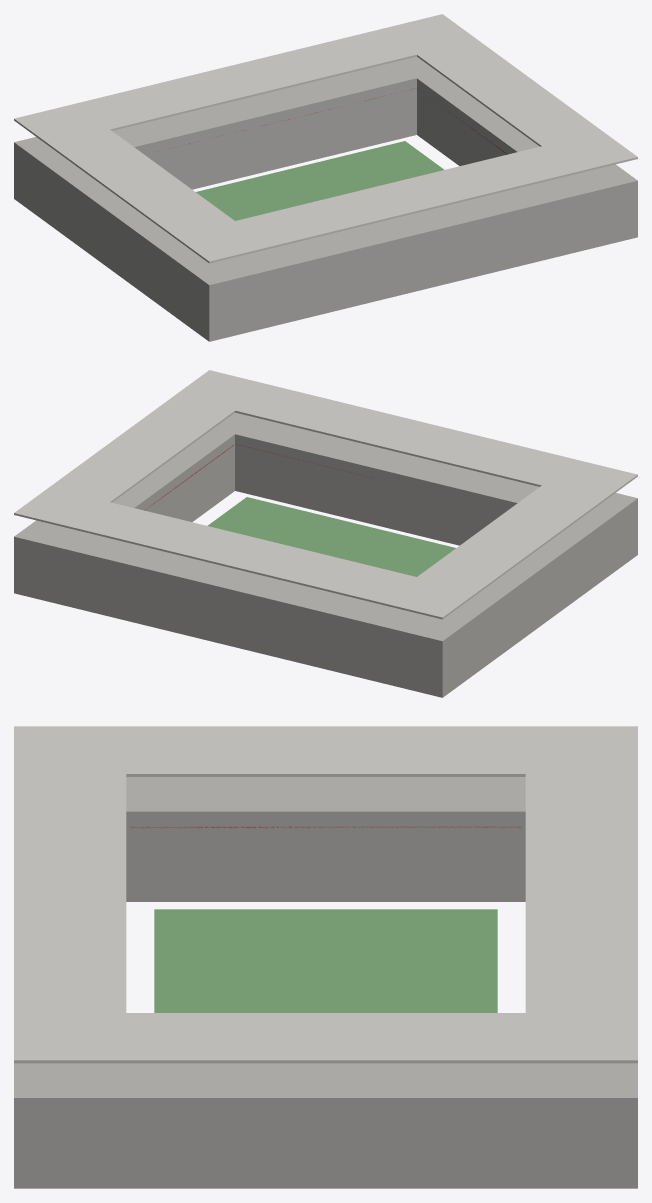
The model's file is landmark-basel-st-jakob-park.77e802eb50.glb.
3 renders of one model, top to bottom at view 1: azimuth 30°, elevation 25°; view 2: azimuth 150°, elevation 25°; view 3: azimuth 270°, elevation 25°, orthographic. The views are drawn at different scales.
Parts seen in each view (by area): view 1: building; view 2: building; view 3: building.
Part boxes in pixels (bbox=[...]): building: bbox=[14, 14, 637, 341]; building: bbox=[14, 370, 637, 697]; building: bbox=[14, 726, 637, 1188].
Bounding box in the file's own units: 190 × 34 × 150.
